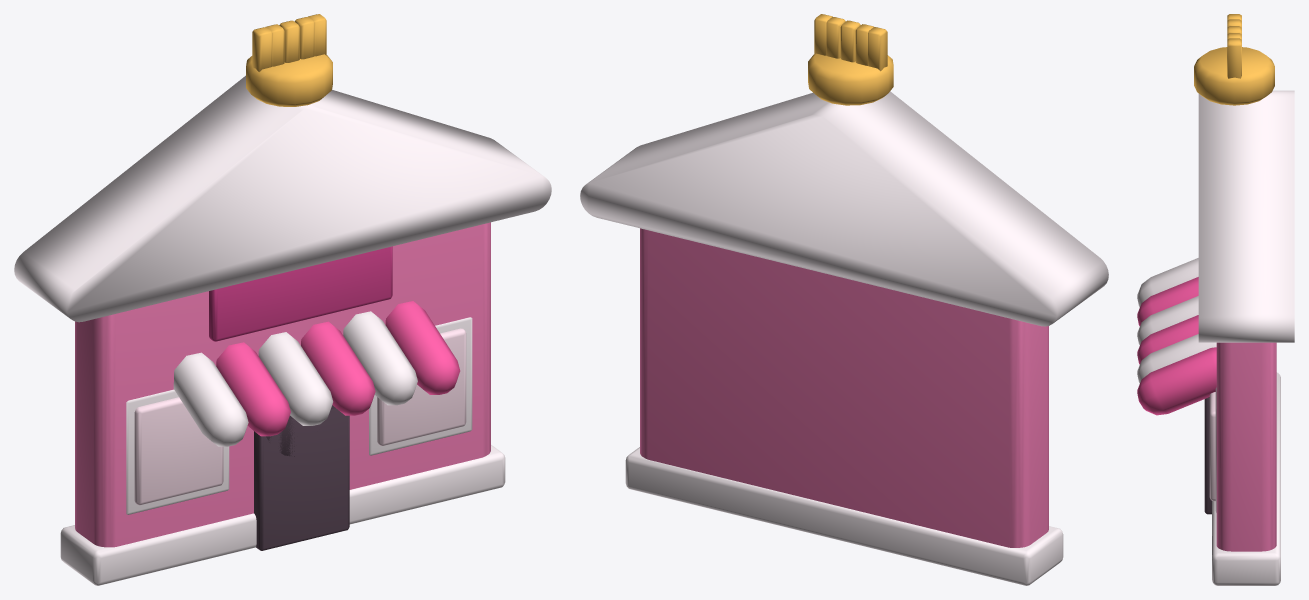
The model's file is facade_cutiecloset.obj.
3 renders of one model, left to right at view 1: azimuth 30°, elevation 25°; view 2: azimuth 150°, elevation 25°; view 3: azimuth 270°, elevation 25°, orthographic. The views are drawn at different scales.
Visible parts, largest first — view 1: Roof, Wall, Trim, AwningA, AwningB, Windows, Door, Sign, Topper, Frames; view 2: Wall, Roof, Trim, Topper; view 3: Roof, Wall, AwningB, Topper, AwningA, Trim, Windows, Door, Frames.
Part boxes in pixels (box(x1,y1,x2,y2)): Roof: box(14, 75, 551, 322); Wall: box(75, 222, 490, 547); Trim: box(60, 445, 505, 585); AwningA: box(173, 311, 417, 446); AwningB: box(216, 301, 460, 436); Windows: box(134, 328, 466, 505); Door: box(254, 405, 349, 550); Sign: box(209, 246, 392, 341); Topper: box(246, 14, 332, 106); Frames: box(126, 317, 472, 514); Wall: box(640, 228, 1048, 547); Roof: box(580, 91, 1108, 326); Trim: box(625, 447, 1063, 585); Topper: box(808, 14, 893, 105); Roof: box(1198, 90, 1294, 342); Wall: box(1216, 342, 1276, 551); AwningB: box(1137, 277, 1216, 415); Topper: box(1194, 14, 1274, 105); AwningA: box(1137, 258, 1216, 383); Trim: box(1212, 372, 1280, 585); Windows: box(1209, 392, 1215, 501); Door: box(1204, 397, 1211, 514); Frames: box(1215, 387, 1216, 512).
Bounding box in the file's own units: 17.2 × 17.14 × 5.24.
